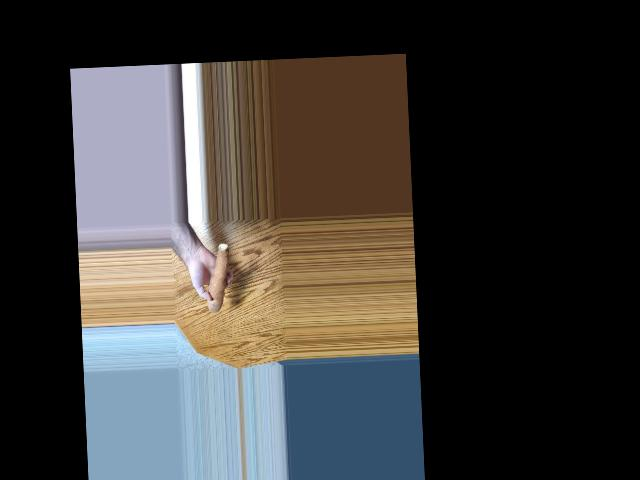sweet_potato: (209, 240, 230, 316)
